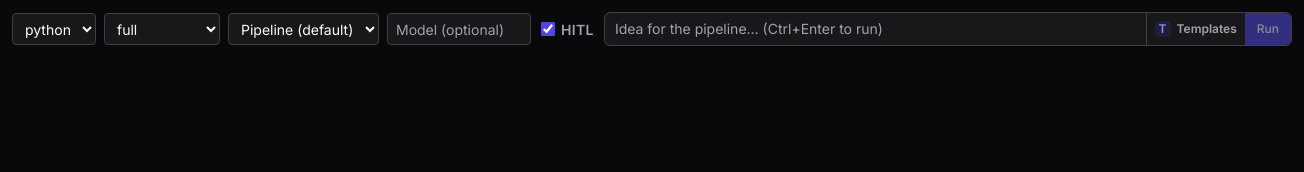
Test: NewRunForm › falha 422 mostra o detail real do ApiError (não mensagem genérica)
In the text box labelled "Idea for the pipeline… (Ctrl+Enter to run)": (875, 29) x1=605 y1=13 x2=1146 y2=45, type "abc"
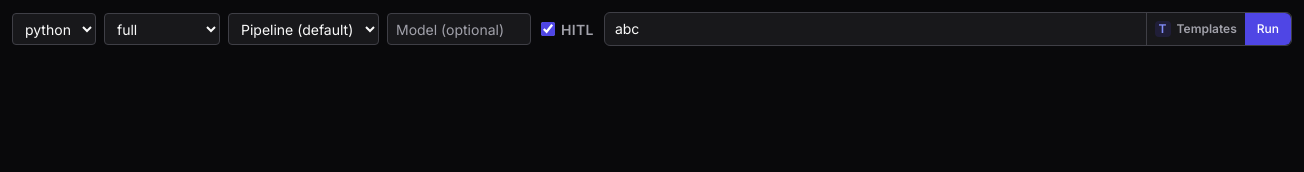
Click the button "Run": (1268, 29) x1=1245 y1=13 x2=1291 y2=45
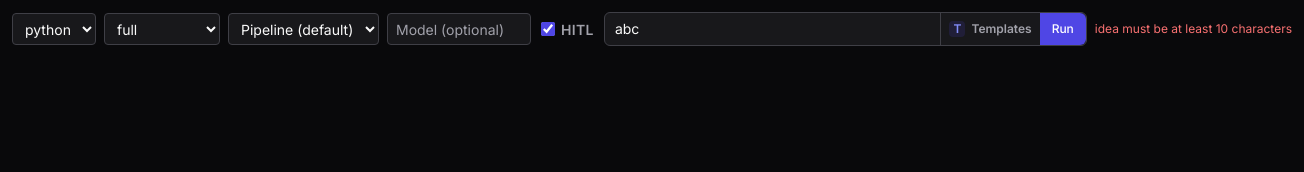
Expected: the message does not show "Failed to start run", x1=1095 y1=21 x2=1292 y2=37
Result: the message reads "idea must be at least 10 characters" at x1=1095 y1=21 x2=1292 y2=36
